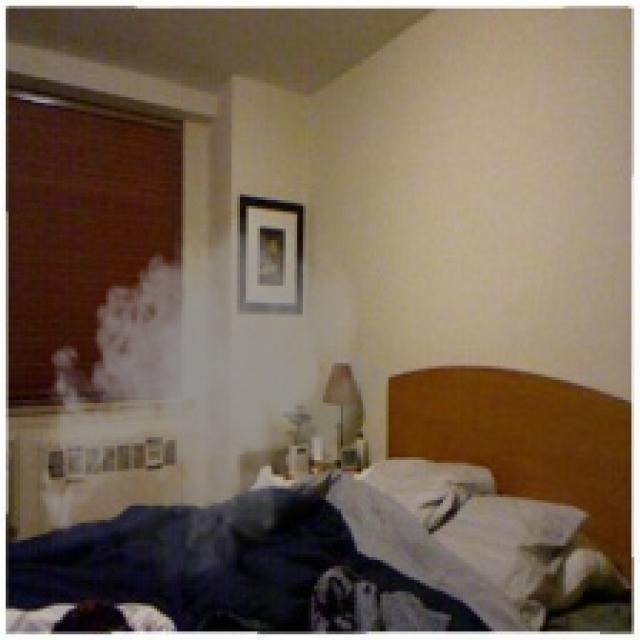Smoke: (29, 202, 392, 598)
